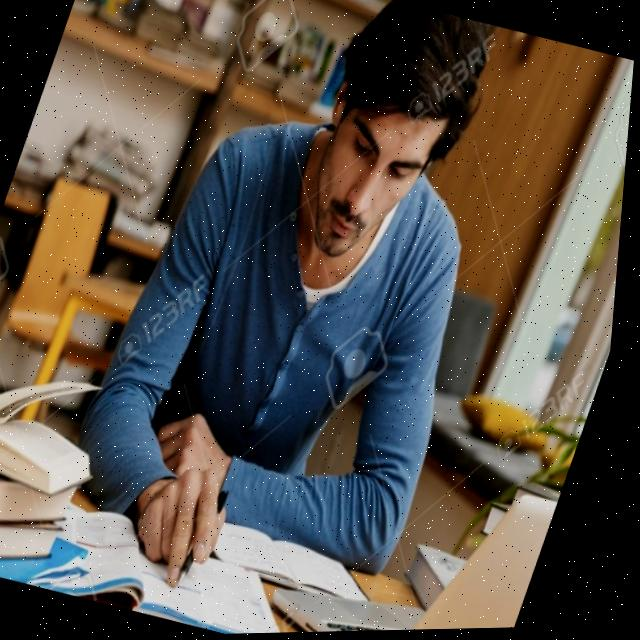studying-person: (35, 0, 538, 635)
